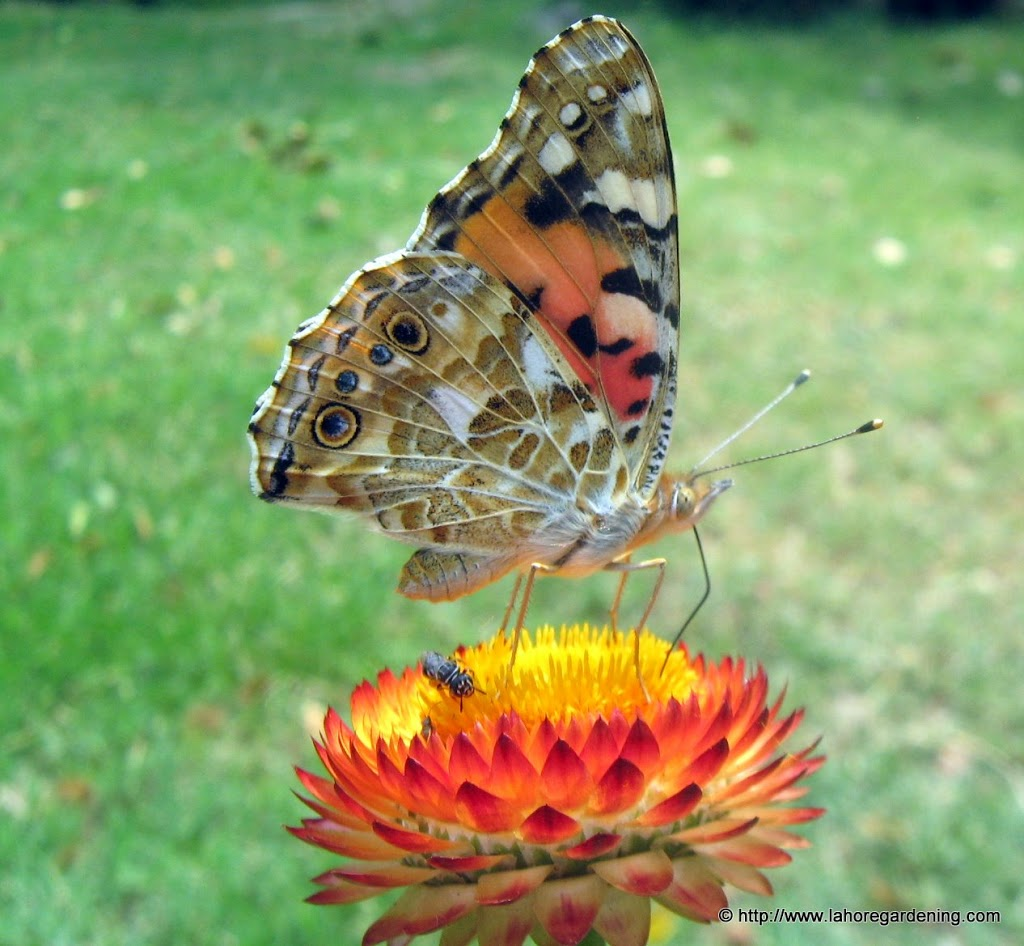Argyreus hyperbius: (236, 7, 898, 716)
butterfly: (238, 9, 900, 718)
